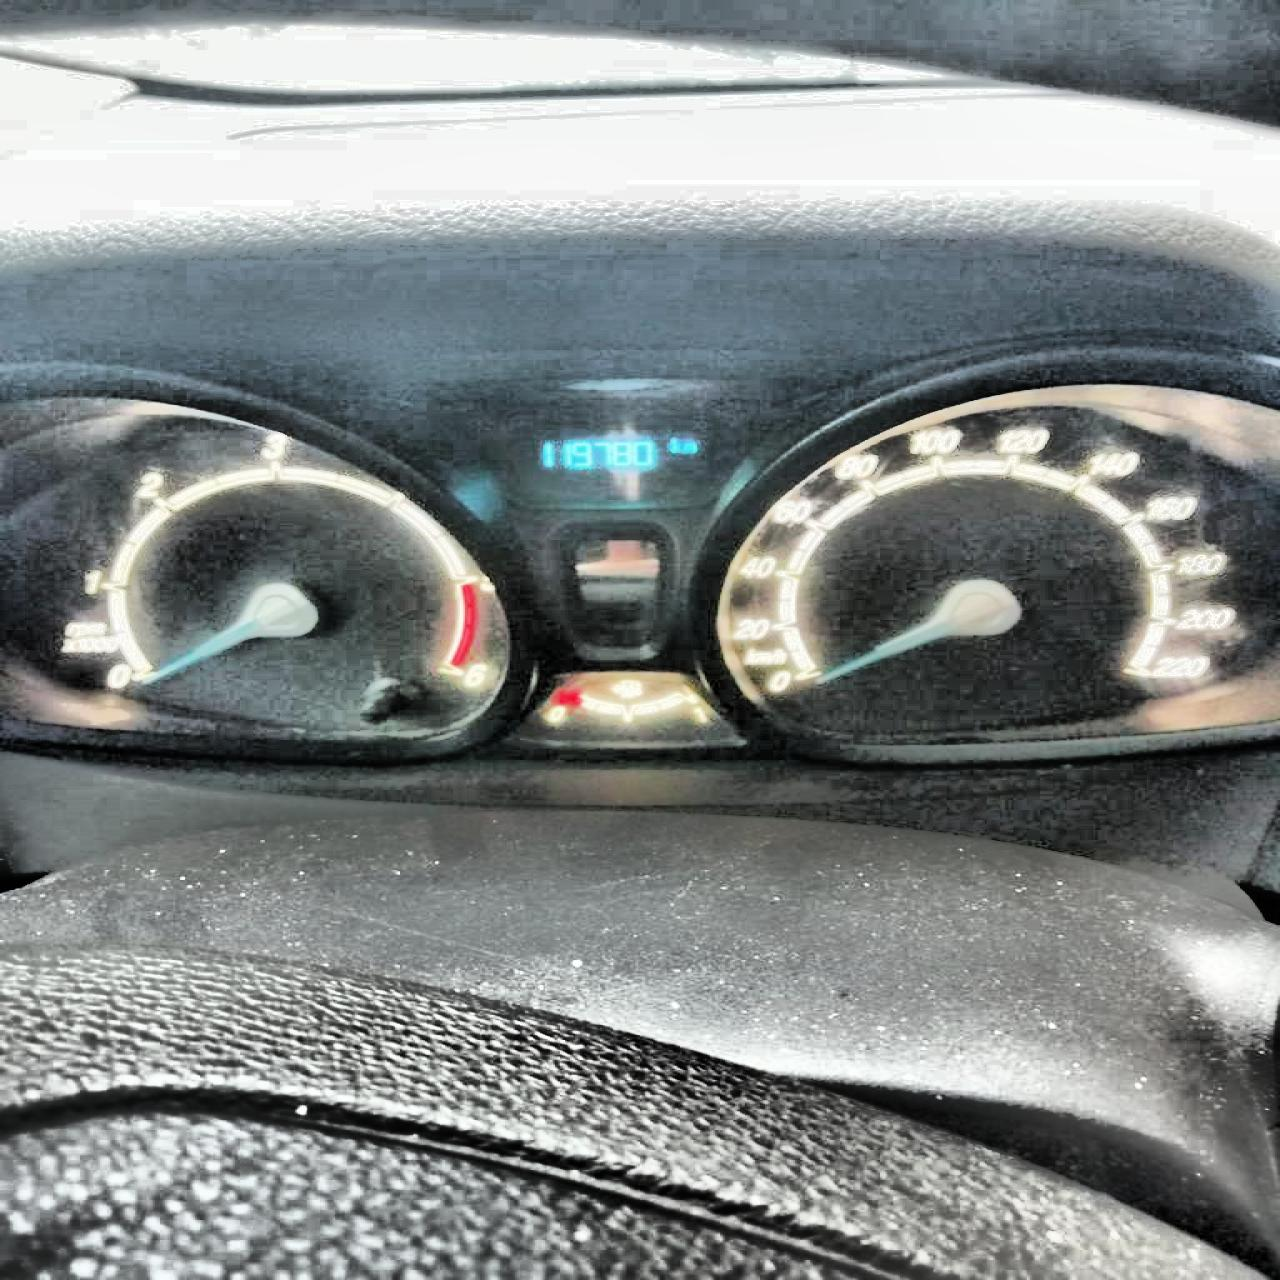0: (632, 438, 653, 468)
1: (540, 440, 552, 470), (561, 440, 572, 469)
7: (593, 438, 612, 467)
8: (612, 438, 631, 467)
9: (572, 441, 591, 468)
X: (682, 440, 695, 451), (670, 437, 680, 450)
odometer: (522, 424, 703, 477)
